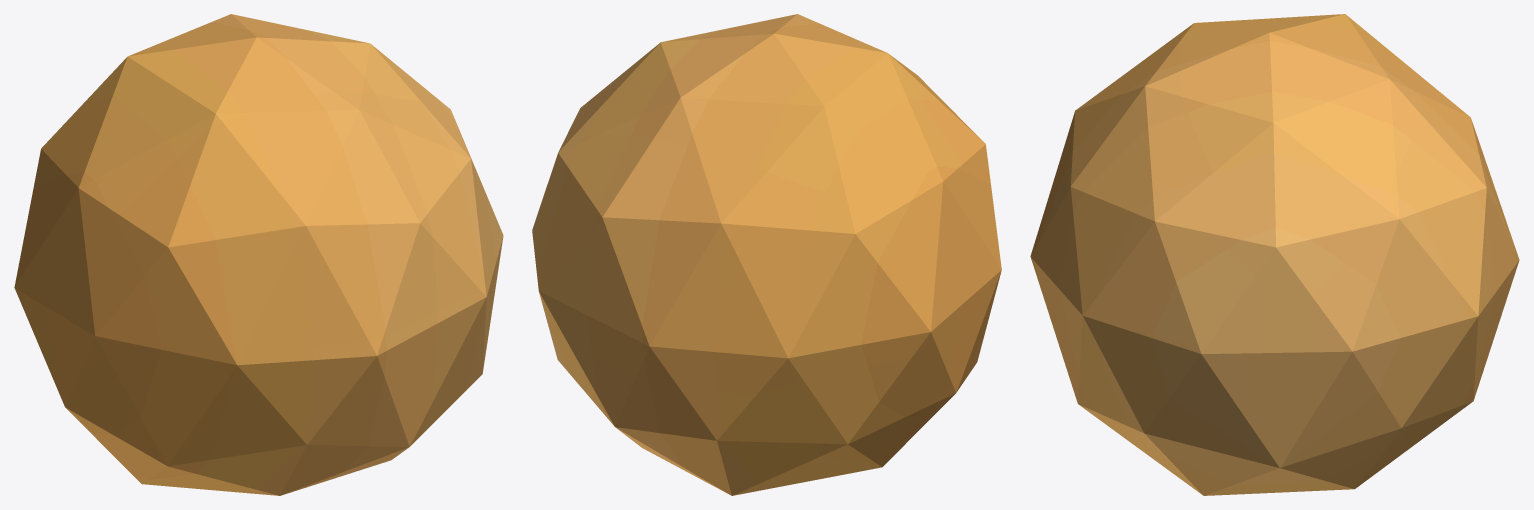
Rendered from Sun.FBX.
The picture shows the model from 3 angles, left to right: view 1: azimuth 30°, elevation 25°; view 2: azimuth 150°, elevation 25°; view 3: azimuth 270°, elevation 25°; orthographic projection. The views are drawn at different scales.
Parts seen in each view (by area): view 1: Sun; view 2: Sun; view 3: Sun.
Boxes of the visible parts, left/top/right/bottom form: Sun: left=14, top=14, right=503, bottom=495; Sun: left=532, top=14, right=1001, bottom=495; Sun: left=1030, top=14, right=1519, bottom=495.
Size of the model in its own units: 1.92 by 2 by 2.
